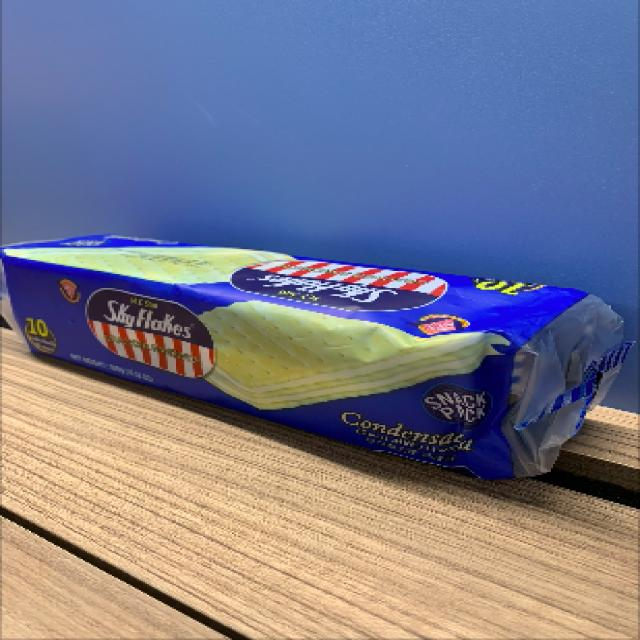object_name: (35, 232, 612, 439)
